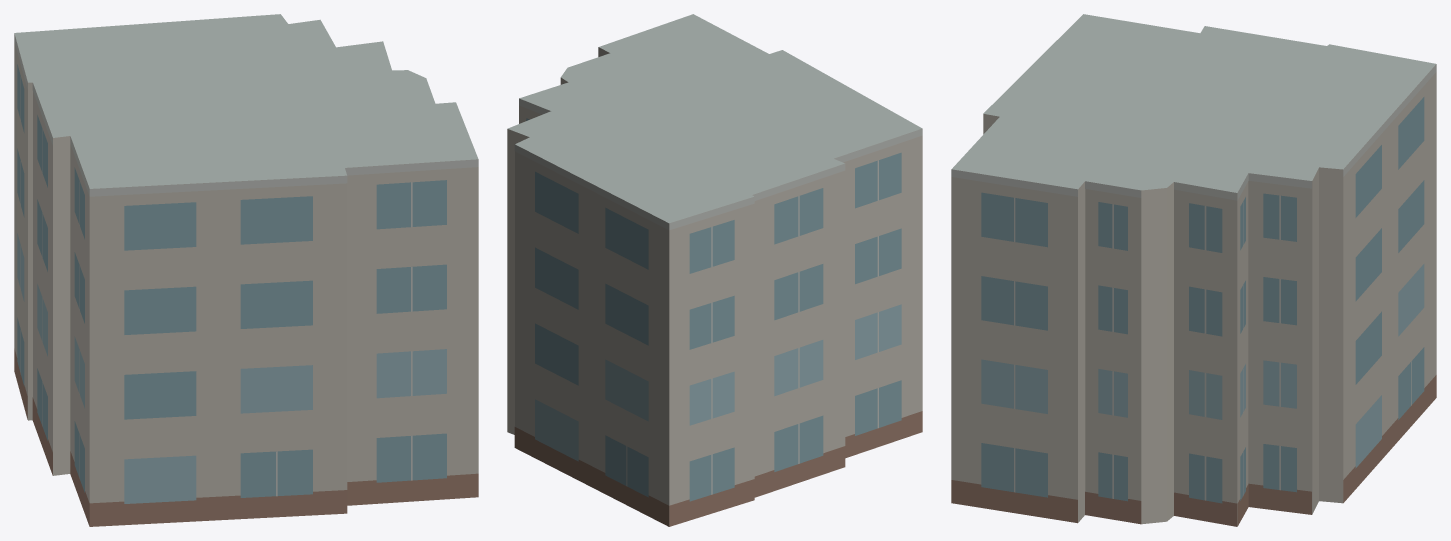
File: survey-upis-32511651.glb
3 views of the same model, side by side, from view 1: azimuth 30°, elevation 25°; view 2: azimuth 150°, elevation 25°; view 3: azimuth 270°, elevation 25° (orthographic). The views are drawn at different scales.
Parts seen in each view (by area): view 1: survey-upis-32511651.tmp; view 2: survey-upis-32511651.tmp; view 3: survey-upis-32511651.tmp.
Part boxes in pixels (x1=…): survey-upis-32511651.tmp: x1=14, y1=14, x2=478, y2=526; survey-upis-32511651.tmp: x1=507, y1=14, x2=922, y2=526; survey-upis-32511651.tmp: x1=951, y1=14, x2=1436, y2=526.
Bounding box in the file's own units: 12.2 × 10.6 × 13.97.
